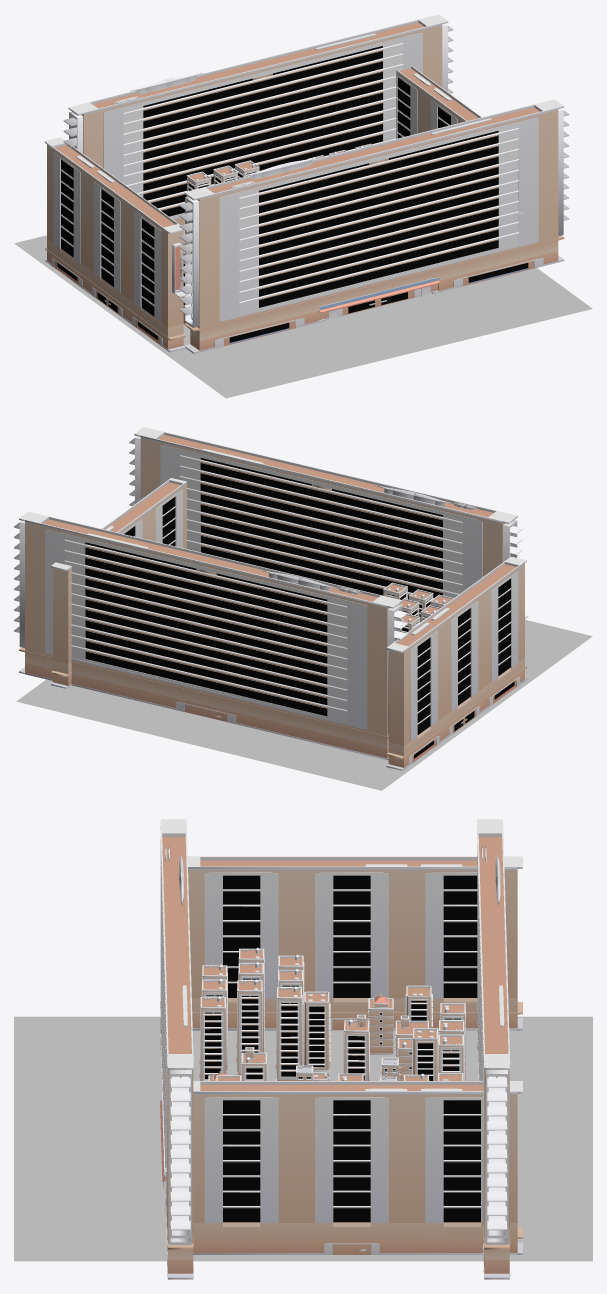
The model's file is sampleStage.gltf.
3 renders of one model, top to bottom at view 1: azimuth 30°, elevation 25°; view 2: azimuth 150°, elevation 25°; view 3: azimuth 270°, elevation 25°, orthographic. The views are drawn at different scales.
Visible parts, largest first — view 1: building-skyscraper-d.013, building-skyscraper-d.012, 平面, building-skyscraper-e.006, building-skyscraper-e.005; view 2: building-skyscraper-d.012, building-skyscraper-d.013, building-skyscraper-e.006, 平面, building-skyscraper-e.005; view 3: 平面, building-skyscraper-e.005, building-skyscraper-e.006, building-skyscraper-d.013, building-skyscraper-d.012, building-skyscraper-d.009, building-skyscraper-b.002, building-skyscraper-d.019, building-skyscraper-d.016, building-skyscraper-c.002, building-m.004, building-skyscraper-b.001 (+5 smaller).
Boxes of the visible parts, <box> form: building-skyscraper-d.013: <box>179,99,569,353</box>; building-skyscraper-d.012: <box>63,14,453,231</box>; 平面: <box>14,235,592,398</box>; building-skyscraper-e.006: <box>45,137,186,352</box>; building-skyscraper-e.005: <box>396,66,523,215</box>; building-skyscraper-d.012: <box>14,511,407,760</box>; building-skyscraper-d.013: <box>129,427,522,599</box>; building-skyscraper-e.006: <box>386,556,528,770</box>; 平面: <box>16,619,592,790</box>; building-skyscraper-e.005: <box>51,478,187,688</box>; 平面: <box>14,1016,592,1261</box>; building-skyscraper-e.005: <box>165,1081,522,1254</box>; building-skyscraper-e.006: <box>187,856,522,1030</box>; building-skyscraper-d.013: <box>160,819,193,1279</box>; building-skyscraper-d.012: <box>477,819,510,1279</box>; building-skyscraper-d.009: <box>276,986,302,1080</box>; building-skyscraper-b.002: <box>303,991,330,1080</box>; building-skyscraper-d.019: <box>200,996,226,1080</box>; building-skyscraper-d.016: <box>235,979,262,1075</box>; building-skyscraper-c.002: <box>343,1014,369,1080</box>; building-m.004: <box>368,991,393,1054</box>; building-skyscraper-b.001: <box>411,1028,438,1080</box>.
Bounding box in the file's own units: 218 × 83.53 × 200.
